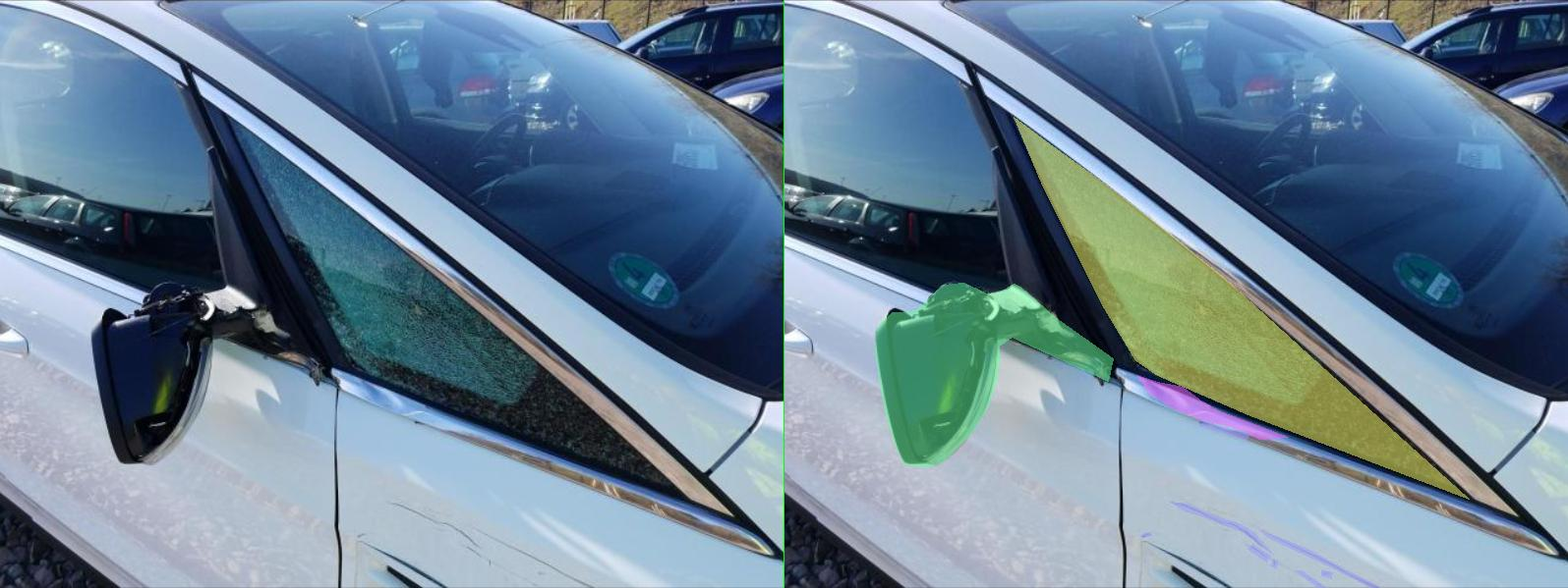Broken part: (181, 283, 657, 467)
Cracked: (458, 117, 1369, 499)
Dent: (704, 375, 1007, 439)
Scratch: (948, 530, 1192, 587), (771, 502, 978, 555), (828, 420, 929, 440), (1021, 570, 1082, 587), (927, 544, 972, 561), (1074, 569, 1096, 578), (972, 559, 988, 568), (712, 532, 734, 537)
